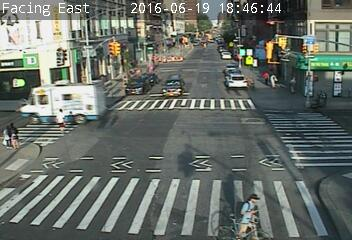neg: (228, 191, 263, 238), (47, 39, 67, 66), (232, 159, 251, 183), (110, 110, 126, 132), (85, 84, 101, 105), (174, 146, 188, 166), (211, 95, 225, 114), (184, 90, 197, 106), (235, 123, 248, 139), (91, 28, 103, 44), (106, 64, 117, 79), (116, 164, 126, 176), (162, 73, 171, 85), (200, 64, 208, 75)
pos: (48, 103, 70, 133), (1, 121, 22, 148), (285, 77, 298, 94), (267, 71, 277, 85), (262, 68, 272, 82)
